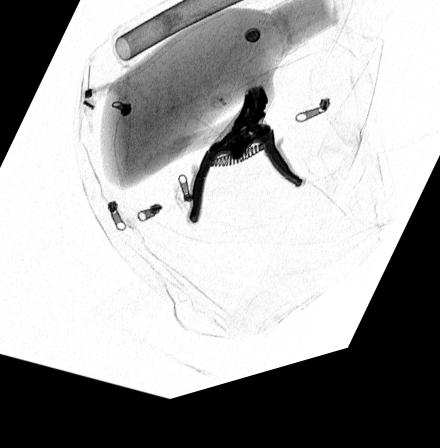Pliers: (188, 99, 306, 235)
